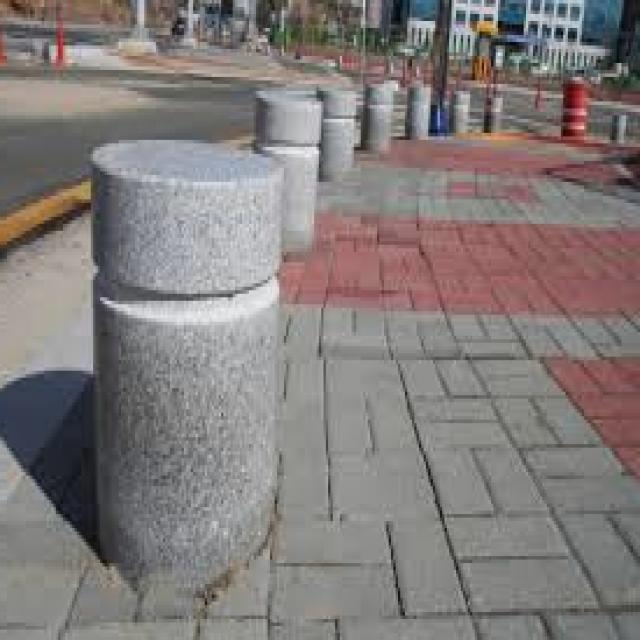bollard: (85, 137, 284, 595), (238, 82, 326, 258), (312, 70, 359, 186), (359, 79, 400, 165), (558, 68, 594, 152), (403, 80, 438, 152), (447, 84, 475, 143), (480, 87, 509, 142), (607, 114, 633, 152)
